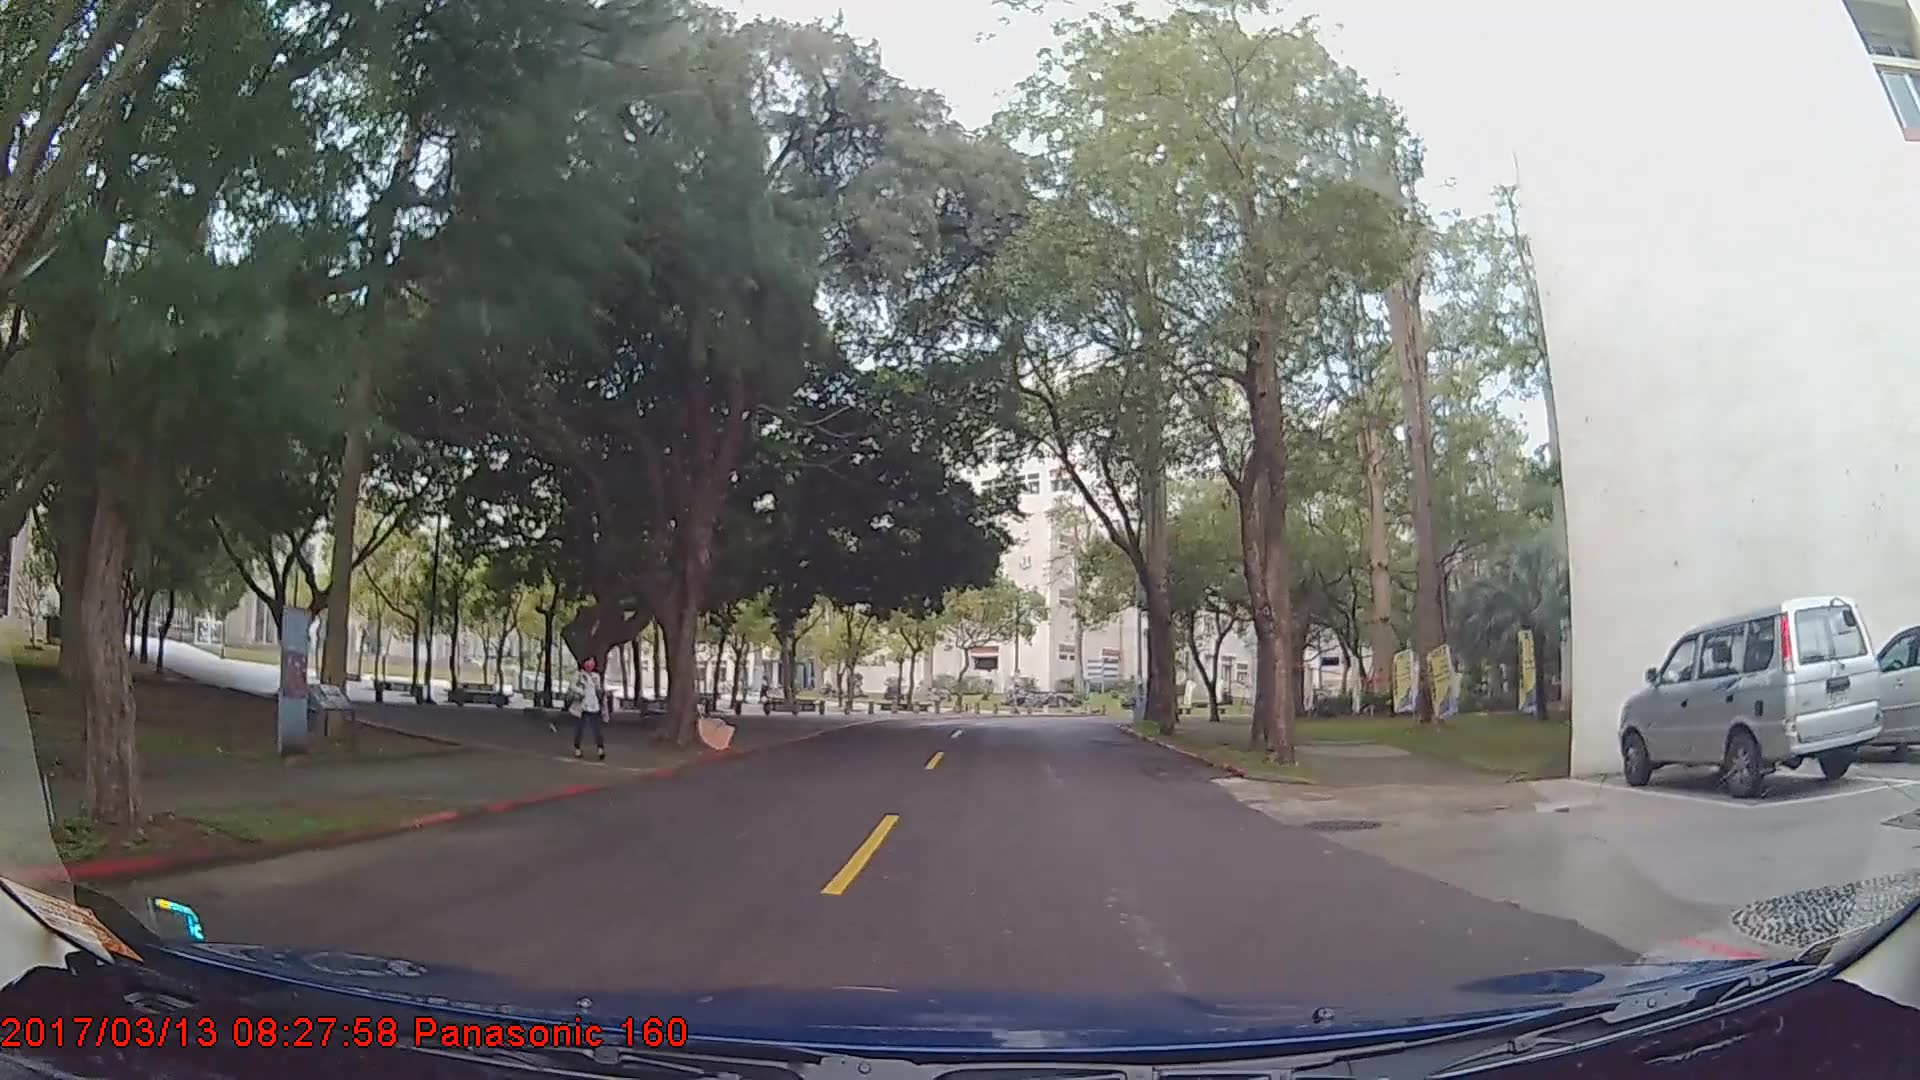pedestrian: (570, 655, 613, 759)
vehicle: (1619, 590, 1880, 795)
